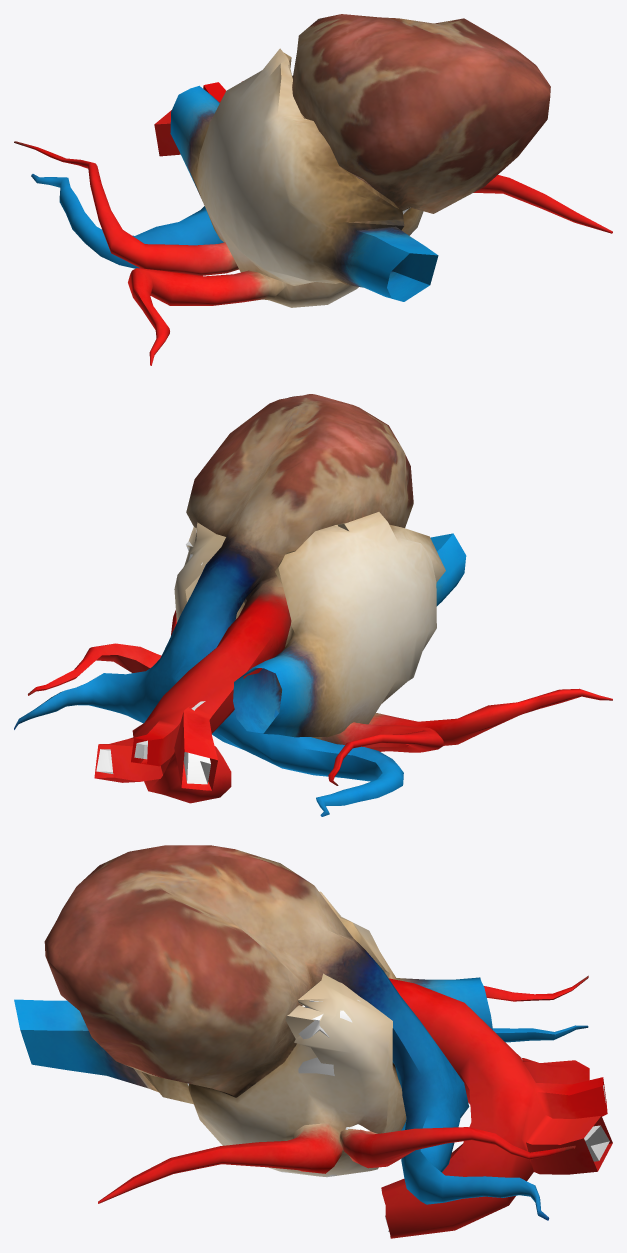
File: heart.fbx
The picture shows the model from 3 angles, top to bottom: view 1: azimuth 30°, elevation 25°; view 2: azimuth 150°, elevation 25°; view 3: azimuth 270°, elevation 25°; orthographic projection. The views are drawn at different scales.
Parts seen in each view (by area): view 1: Circulatory_Heart_Left_Atrium_Geo; view 2: Circulatory_Heart_Left_Atrium_Geo; view 3: Circulatory_Heart_Left_Atrium_Geo.
Boxes of the visible parts, <box> form: Circulatory_Heart_Left_Atrium_Geo: <box>14,14,612,365</box>; Circulatory_Heart_Left_Atrium_Geo: <box>14,394,612,816</box>; Circulatory_Heart_Left_Atrium_Geo: <box>14,845,612,1238</box>.
Bounding box in the file's own units: 1808 × 1264 × 1855.
